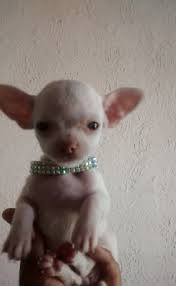chihuahua: (1, 74, 152, 273)
